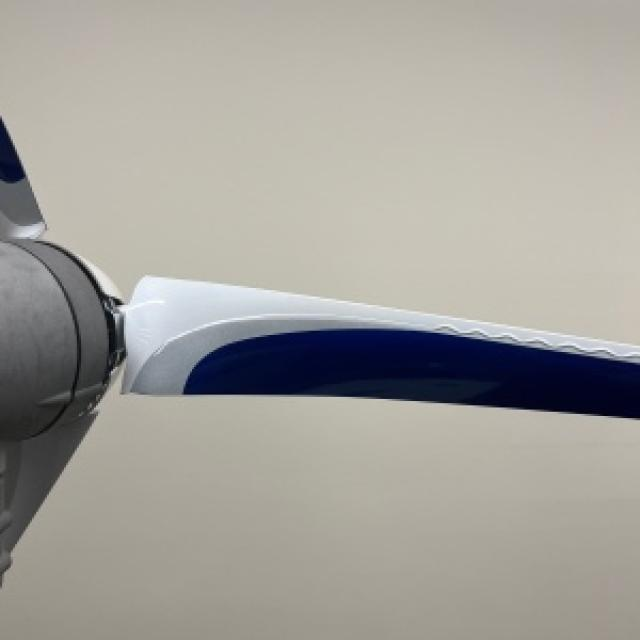healthy: (0, 237, 638, 638), (0, 375, 638, 638)
